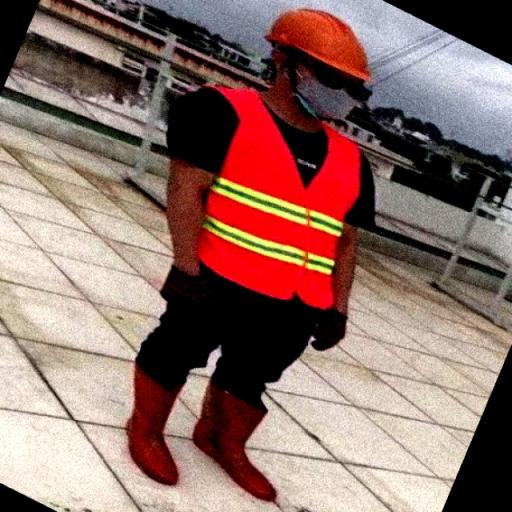Person: (83, 4, 481, 506)
boots: (189, 372, 282, 506), (121, 360, 188, 489)
gloves: (304, 303, 350, 359), (156, 260, 206, 309)
goggles: (280, 36, 376, 102)
helmet: (258, 6, 381, 84)
vest: (174, 80, 365, 312)
